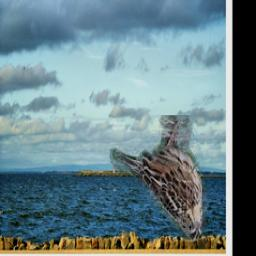Sparrow: (110, 115, 207, 249)
